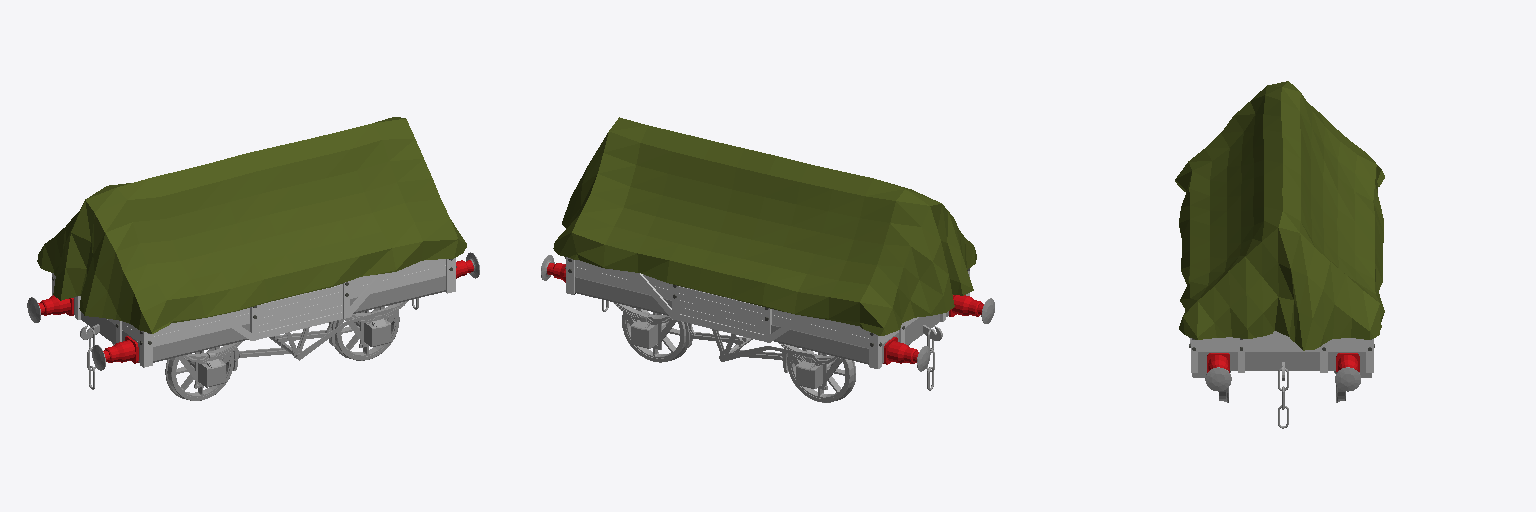
3 renders of one model, left to right at view 1: azimuth 30°, elevation 25°; view 2: azimuth 150°, elevation 25°; view 3: azimuth 270°, elevation 25°, orthographic.
Parts seen in each view (by area): view 1: Plane, FRAME_Cube.150, SHELL_Rivet.001_Rivet.000_Rivet.001_Rivet.002_Rivet.001_Rivet.0, SHELL_Rivet.001_Rivet.000_Rivet.001_Rivet.002_Rivet.001_Riv.018, SHELL_Rivet.001_Rivet.000_Rivet.001_Rivet.002_Rivet.001_Riv.002, SHELL_Rivet.001_Rivet.000_Rivet.001_Rivet.002_Rivet.001_Riv.016, SHELL_Cylinder.045_SHELL_Cylinder.007_SHELL_Cylinder.045_SH.004, FRAME_WHEEL_1_Cylinder.016, FRAME_WHEEL_2_Cylinder.002, SHELL_Cylinder.045_SHELL_Cylinder.002_SHELL_Cylinder.045_SH.000; view 2: Plane, FRAME_Cube.150, SHELL_Rivet.001_Rivet.000_Rivet.001_Rivet.002_Rivet.001_Rivet.0, SHELL_Rivet.001_Rivet.000_Rivet.001_Rivet.002_Rivet.001_Riv.018, SHELL_Rivet.001_Rivet.000_Rivet.001_Rivet.002_Rivet.001_Riv.002, SHELL_Rivet.001_Rivet.000_Rivet.001_Rivet.002_Rivet.001_Riv.016, SHELL_Cylinder.045_SHELL_Cylinder.007_SHELL_Cylinder.045_SH.004, FRAME_WHEEL_1_Cylinder.016, FRAME_WHEEL_2_Cylinder.002, SHELL_Cylinder.045_SHELL_Cylinder.002_SHELL_Cylinder.045_SH.000; view 3: Plane, SHELL_Rivet.001_Rivet.000_Rivet.001_Rivet.002_Rivet.001_Rivet.0, SHELL_Rivet.001_Rivet.000_Rivet.001_Rivet.002_Rivet.001_Riv.018, SHELL_Cylinder.045_SHELL_Cylinder.002_SHELL_Cylinder.045_SH.000, SHELL_Rivet.001_Rivet.000_Rivet.001_Rivet.002_Rivet.001_Riv.016, SHELL_Cylinder.045_SHELL_Cylinder.007_SHELL_Cylinder.045_SH.004.
Part boxes in pixels (x1,y1,x2,y2): Plane: (37, 117, 466, 333); FRAME_Cube.150: (178, 301, 407, 388); SHELL_Rivet.001_Rivet.000_Rivet.001_Rivet.002_Rivet.001_Rivet.0: (73, 275, 445, 362); SHELL_Rivet.001_Rivet.000_Rivet.001_Rivet.002_Rivet.001_Riv.018: (108, 259, 445, 346); SHELL_Rivet.001_Rivet.000_Rivet.001_Rivet.002_Rivet.001_Riv.002: (258, 284, 342, 339); SHELL_Rivet.001_Rivet.000_Rivet.001_Rivet.002_Rivet.001_Riv.016: (52, 258, 455, 367); SHELL_Cylinder.045_SHELL_Cylinder.007_SHELL_Cylinder.045_SH.004: (38, 260, 473, 363); FRAME_WHEEL_1_Cylinder.016: (112, 343, 234, 400); FRAME_WHEEL_2_Cylinder.002: (335, 305, 399, 360); SHELL_Cylinder.045_SHELL_Cylinder.002_SHELL_Cylinder.045_SH.000: (27, 252, 479, 370); Plane: (553, 117, 976, 335); FRAME_Cube.150: (613, 302, 843, 389); SHELL_Rivet.001_Rivet.000_Rivet.001_Rivet.002_Rivet.001_Rivet.0: (575, 277, 948, 364); SHELL_Rivet.001_Rivet.000_Rivet.001_Rivet.002_Rivet.001_Riv.018: (575, 260, 918, 347); SHELL_Rivet.001_Rivet.000_Rivet.001_Rivet.002_Rivet.001_Riv.002: (678, 286, 763, 340); SHELL_Rivet.001_Rivet.000_Rivet.001_Rivet.002_Rivet.001_Riv.016: (566, 257, 969, 368); SHELL_Cylinder.045_SHELL_Cylinder.007_SHELL_Cylinder.045_SH.004: (547, 263, 983, 364); FRAME_WHEEL_1_Cylinder.016: (787, 344, 909, 402); FRAME_WHEEL_2_Cylinder.002: (622, 307, 686, 362); SHELL_Cylinder.045_SHELL_Cylinder.002_SHELL_Cylinder.045_SH.000: (541, 255, 994, 371); Plane: (1175, 81, 1384, 350); SHELL_Rivet.001_Rivet.000_Rivet.001_Rivet.002_Rivet.001_Rivet.0: (1198, 352, 1365, 370); SHELL_Rivet.001_Rivet.000_Rivet.001_Rivet.002_Rivet.001_Riv.018: (1198, 331, 1365, 351); SHELL_Cylinder.045_SHELL_Cylinder.002_SHELL_Cylinder.045_SH.000: (1205, 367, 1360, 391); SHELL_Rivet.001_Rivet.000_Rivet.001_Rivet.002_Rivet.001_Riv.016: (1191, 338, 1373, 372); SHELL_Cylinder.045_SHELL_Cylinder.007_SHELL_Cylinder.045_SH.004: (1207, 353, 1359, 372).
Bounding box in the file's own units: 5.98 × 3.1 × 2.86.
19 materials, 5 textured.